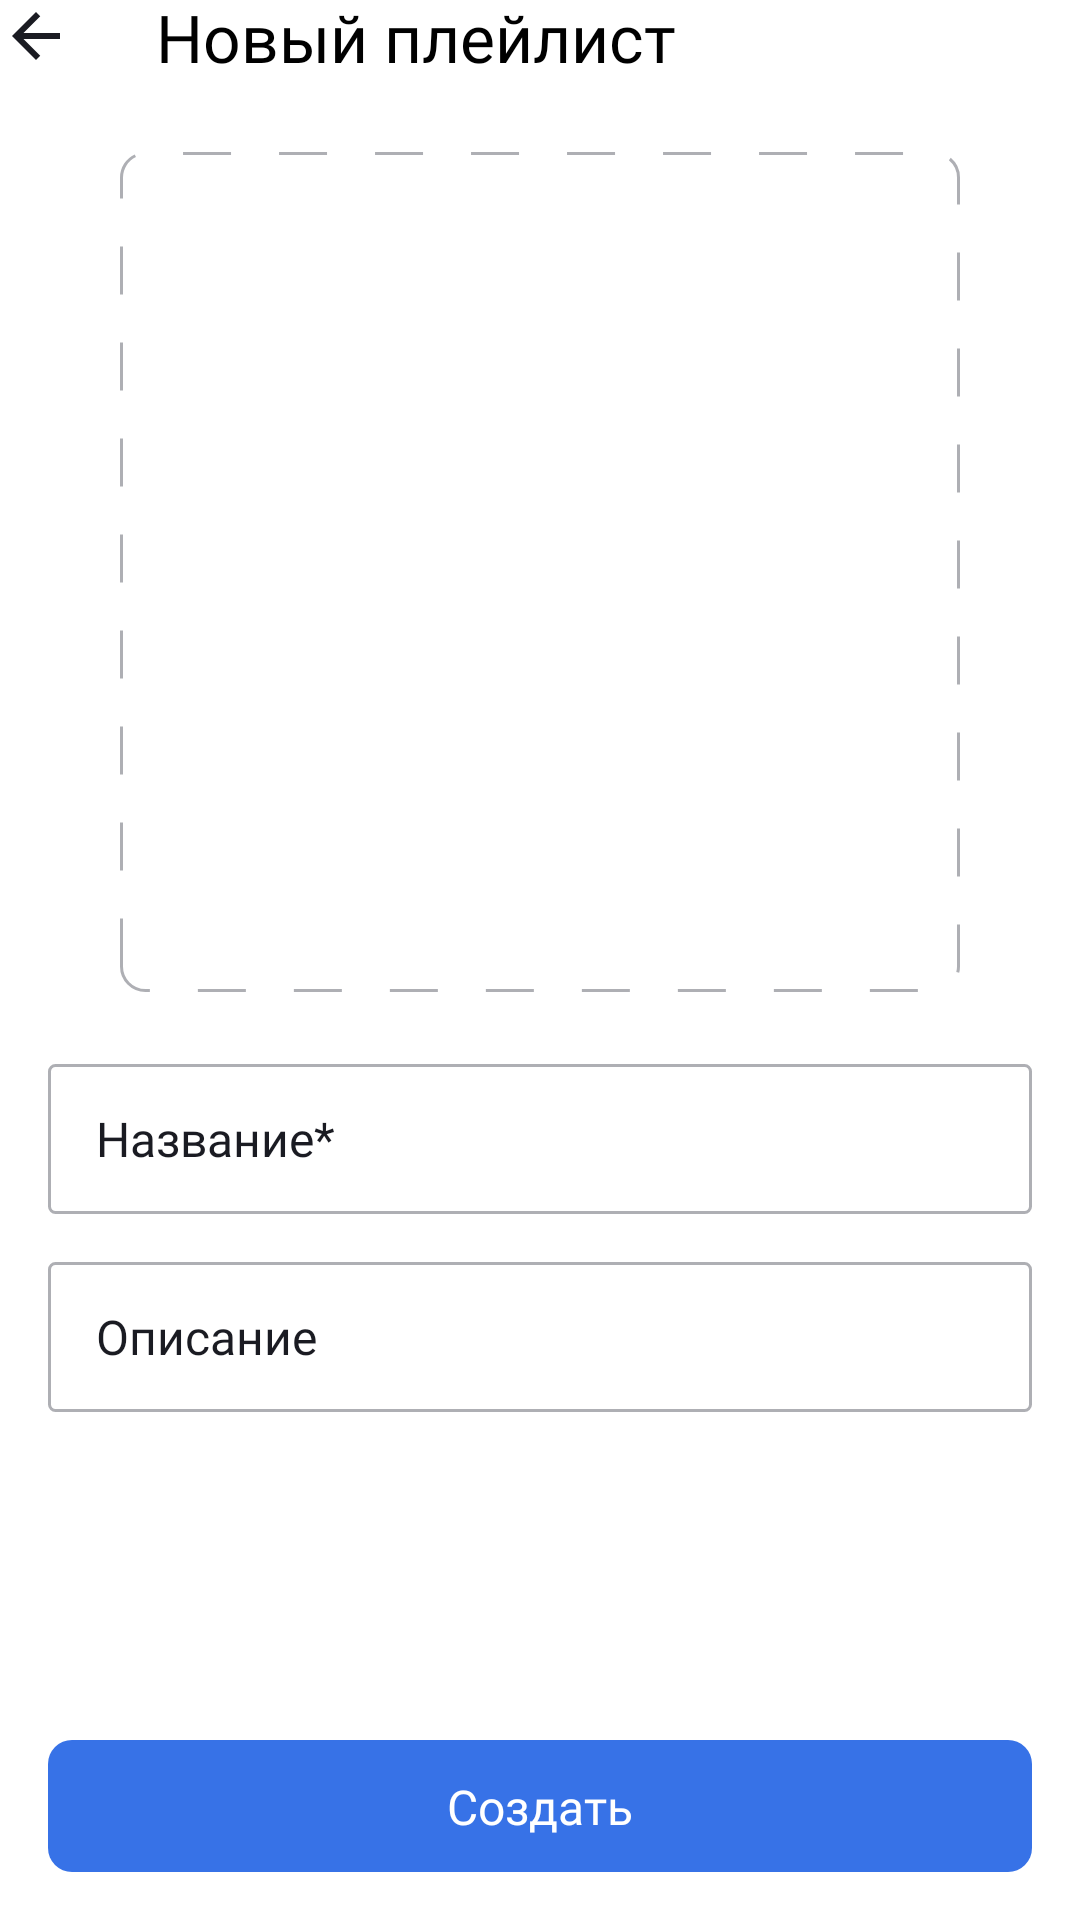

Where icons sit on this 1080px x 1920px app screen, as [x1,y1,x2,y2]:
arrow back: [12,12,60,60]
